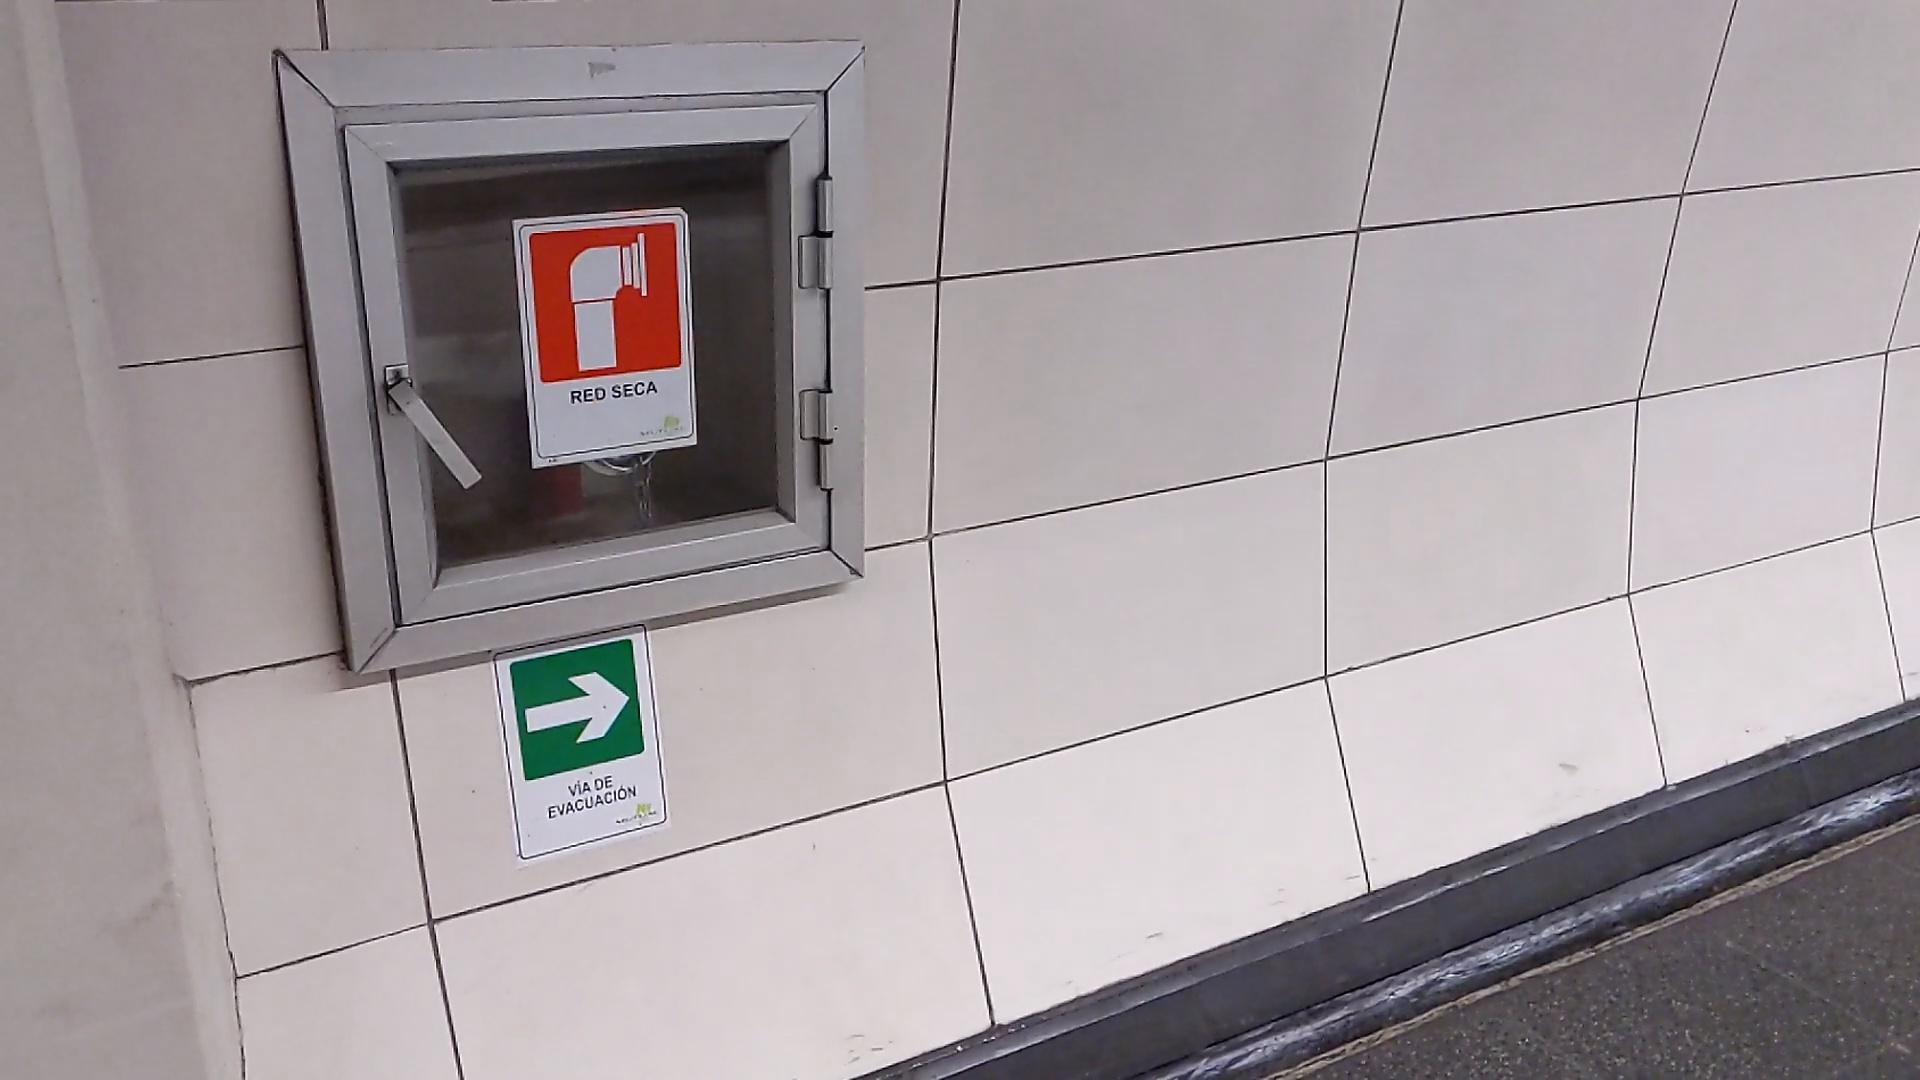emergency right arrow: (524, 670, 634, 749)
